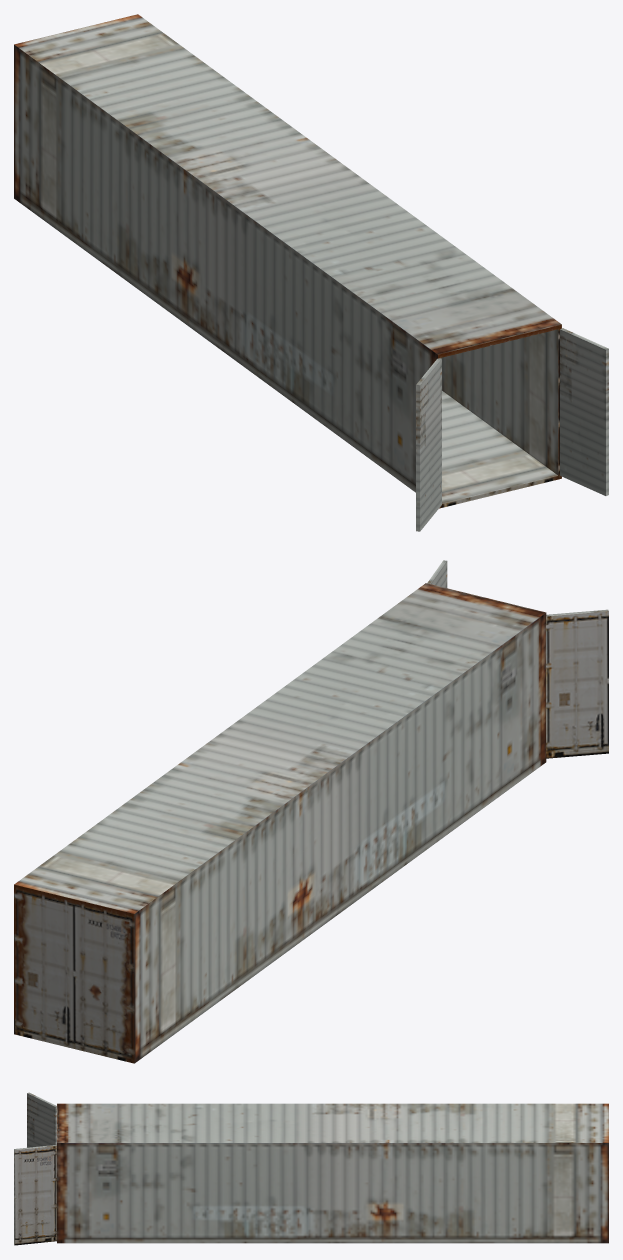
File: ShippingContainerOpen.fbx
The picture shows the model from 3 angles, top to bottom: view 1: azimuth 30°, elevation 25°; view 2: azimuth 150°, elevation 25°; view 3: azimuth 270°, elevation 25°; orthographic projection. The views are drawn at different scales.
Visible parts, largest first — view 1: Cube, Cube.001, Cube.002; view 2: Cube, Cube.002; view 3: Cube, Cube.001, Cube.002.
Part boxes in pixels (x1,y1,x2,y2): Cube: (14,14,561,508); Cube.001: (560,328,608,495); Cube.002: (416,358,441,531); Cube: (14,583,546,1063); Cube.002: (546,609,608,758); Cube: (57,1103,608,1243); Cube.001: (14,1145,56,1245); Cube.002: (27,1092,56,1147).
Size of the model in its own units: 1121 by 908 by 4883.
